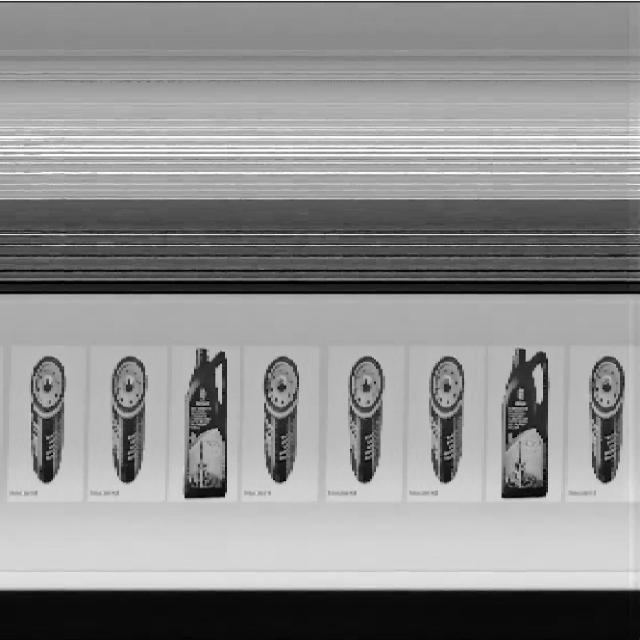motor_oil: (496, 344, 554, 500), (177, 346, 229, 502)
oil_filter: (423, 351, 468, 486), (259, 356, 303, 488), (345, 354, 387, 489), (108, 348, 148, 486), (27, 350, 66, 486), (588, 351, 627, 484)
